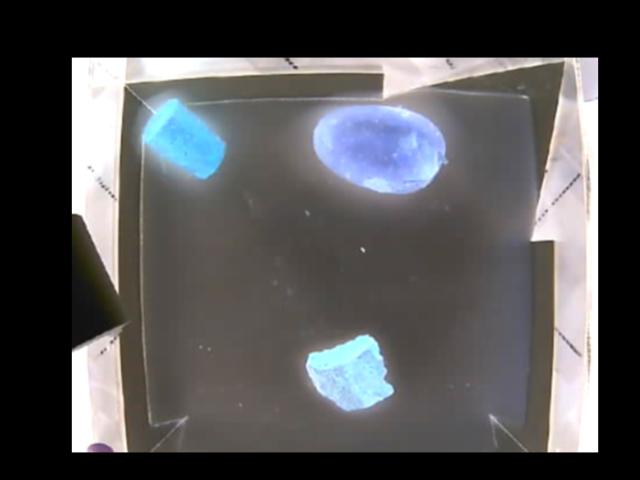Brisk: (305, 334, 395, 411)
Carrot: (144, 98, 227, 180)
Potato: (313, 106, 446, 195)
